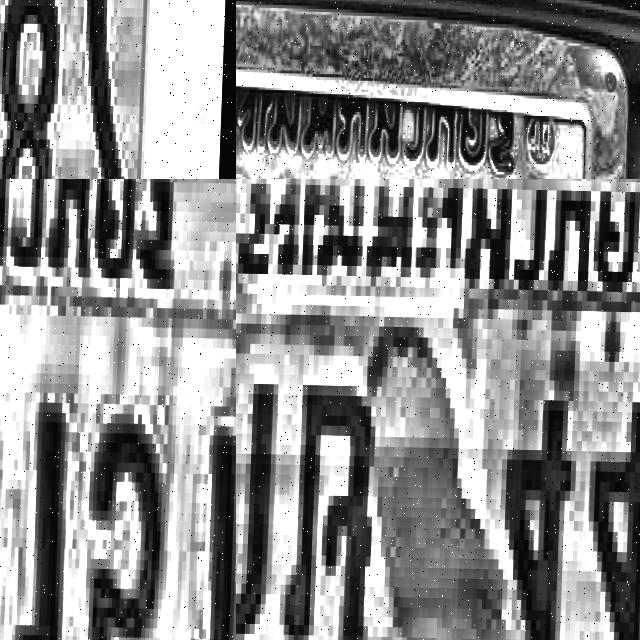license-plate: (236, 179, 640, 640), (0, 179, 236, 640), (236, 0, 640, 179), (0, 0, 236, 179)
